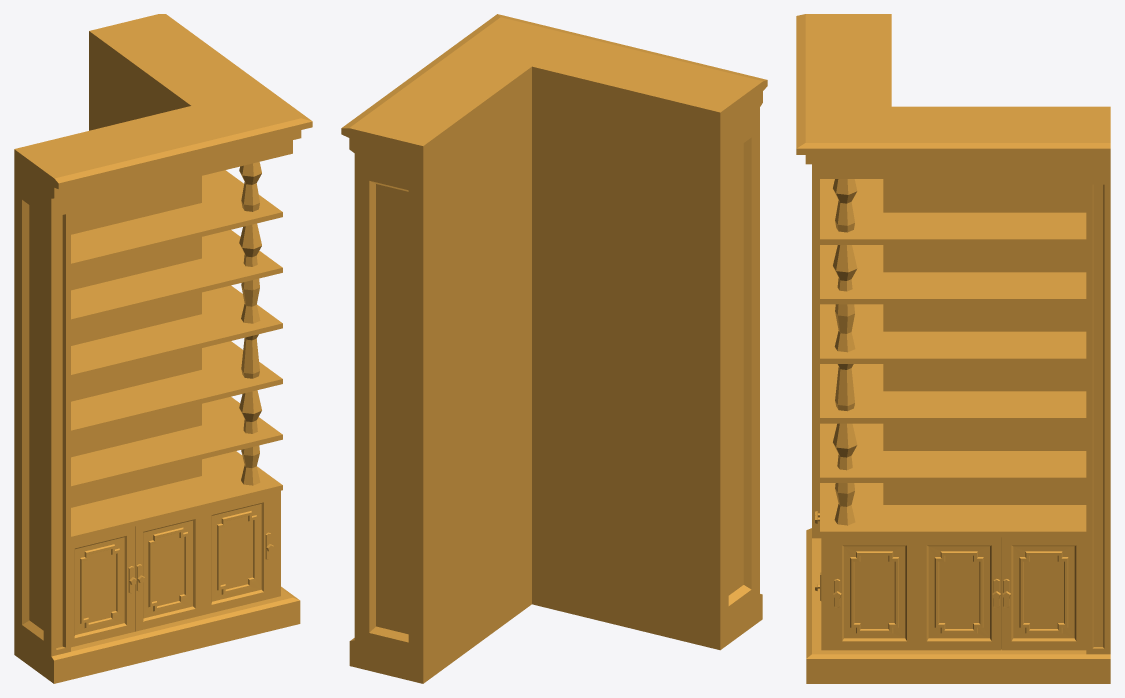
The model's file is SM_Bookcase_Modular_Cabinet_Corner_Outer.fbx.
3 views of the same model, side by side, from view 1: azimuth 30°, elevation 25°; view 2: azimuth 150°, elevation 25°; view 3: azimuth 270°, elevation 25° (orthographic). The views are drawn at different scales.
Visible parts, largest first — view 1: library-modular-cabinet-corner-outer-base, library-modular-cabinet-corner-outer-door-r-a, library-modular-cabinet-corner-outer-door-m-a, library-modular-cabinet-corner-outer-door-l-a; view 2: library-modular-cabinet-corner-outer-base; view 3: library-modular-cabinet-corner-outer-base, library-modular-cabinet-corner-outer-door-r-b, library-modular-cabinet-corner-outer-door-l-b, library-modular-cabinet-corner-outer-door-m-b.
Part boxes in pixels (bbox=[...]): library-modular-cabinet-corner-outer-base: bbox=[14, 14, 312, 683]; library-modular-cabinet-corner-outer-door-r-a: bbox=[203, 493, 273, 614]; library-modular-cabinet-corner-outer-door-m-a: bbox=[135, 509, 203, 631]; library-modular-cabinet-corner-outer-door-l-a: bbox=[71, 526, 136, 647]; library-modular-cabinet-corner-outer-base: bbox=[341, 14, 767, 683]; library-modular-cabinet-corner-outer-base: bbox=[796, 14, 1110, 683]; library-modular-cabinet-corner-outer-door-r-b: bbox=[1001, 537, 1086, 650]; library-modular-cabinet-corner-outer-door-l-b: bbox=[832, 537, 916, 650]; library-modular-cabinet-corner-outer-door-m-b: bbox=[917, 537, 1001, 650].
Bounding box in the file's own units: 1.58 × 3 × 1.58.
